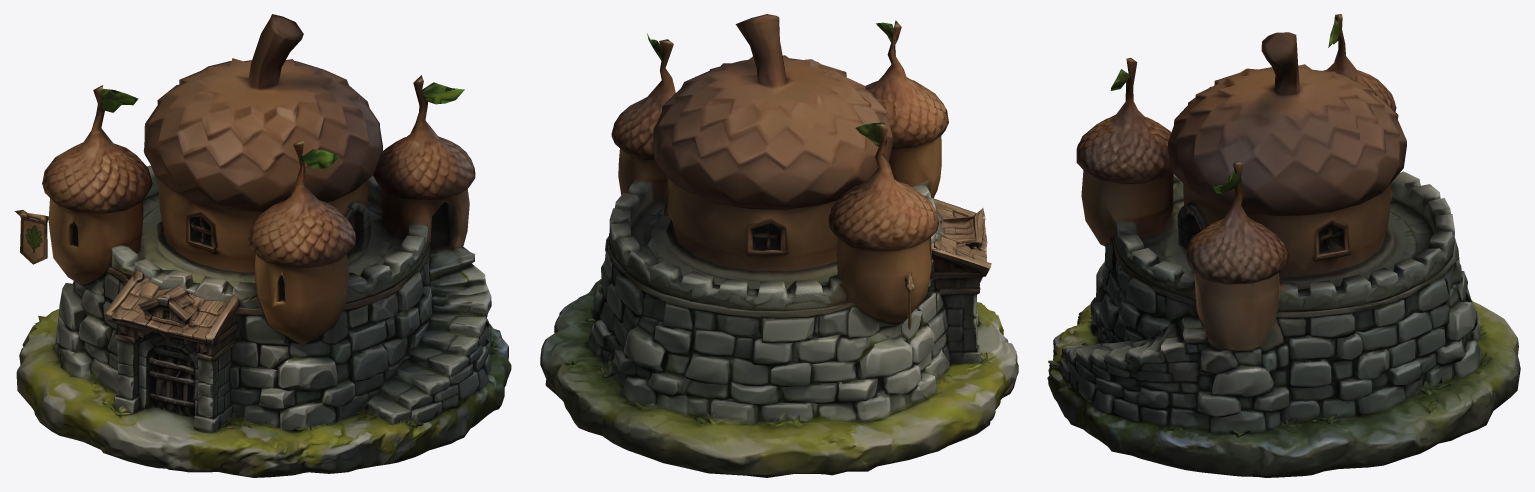
File: Castle.glb
3 renders of one model, left to right at view 1: azimuth 30°, elevation 25°; view 2: azimuth 150°, elevation 25°; view 3: azimuth 270°, elevation 25°, orthographic.
Parts seen in each view (by area): view 1: castle; view 2: castle; view 3: castle.
Boxes of the visible parts, x1,y1,x2,y2 form: castle: (14,14,511,477); castle: (540,14,1018,477); castle: (1047,14,1520,477).
Size of the model in its own units: 1.23 by 1 by 1.21.
Materials: 1 (1 with a texture image).
